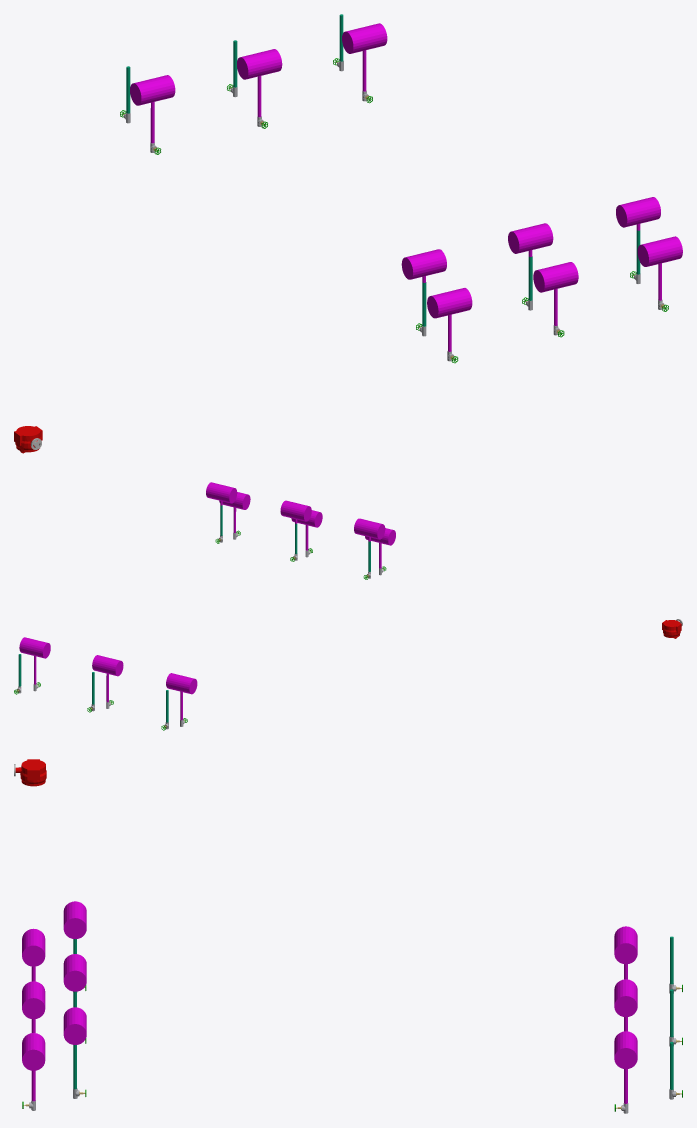
3 views of the same model, one above another, from view 1: azimuth 30°, elevation 25°; view 2: azimuth 150°, elevation 25°; view 3: azimuth 270°, elevation 25° (orthographic). The views are drawn at different scales.
Size of the model in its own units: 5.58 by 0.7829 by 4.83.
